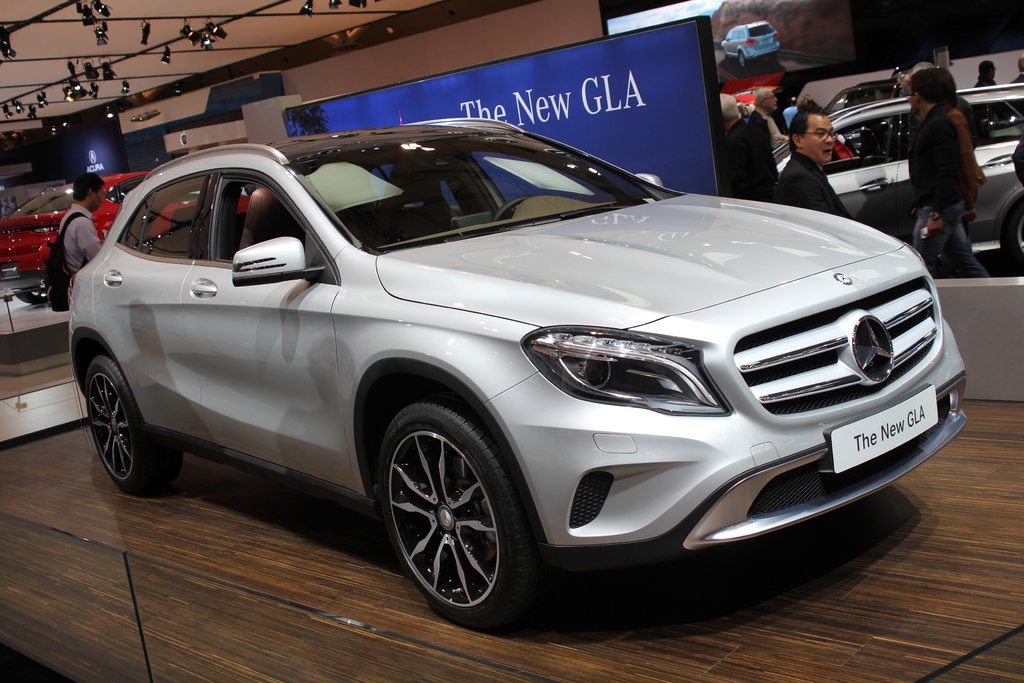Car: (68, 120, 967, 628), (773, 81, 1024, 265), (0, 170, 248, 304), (721, 19, 776, 66)
